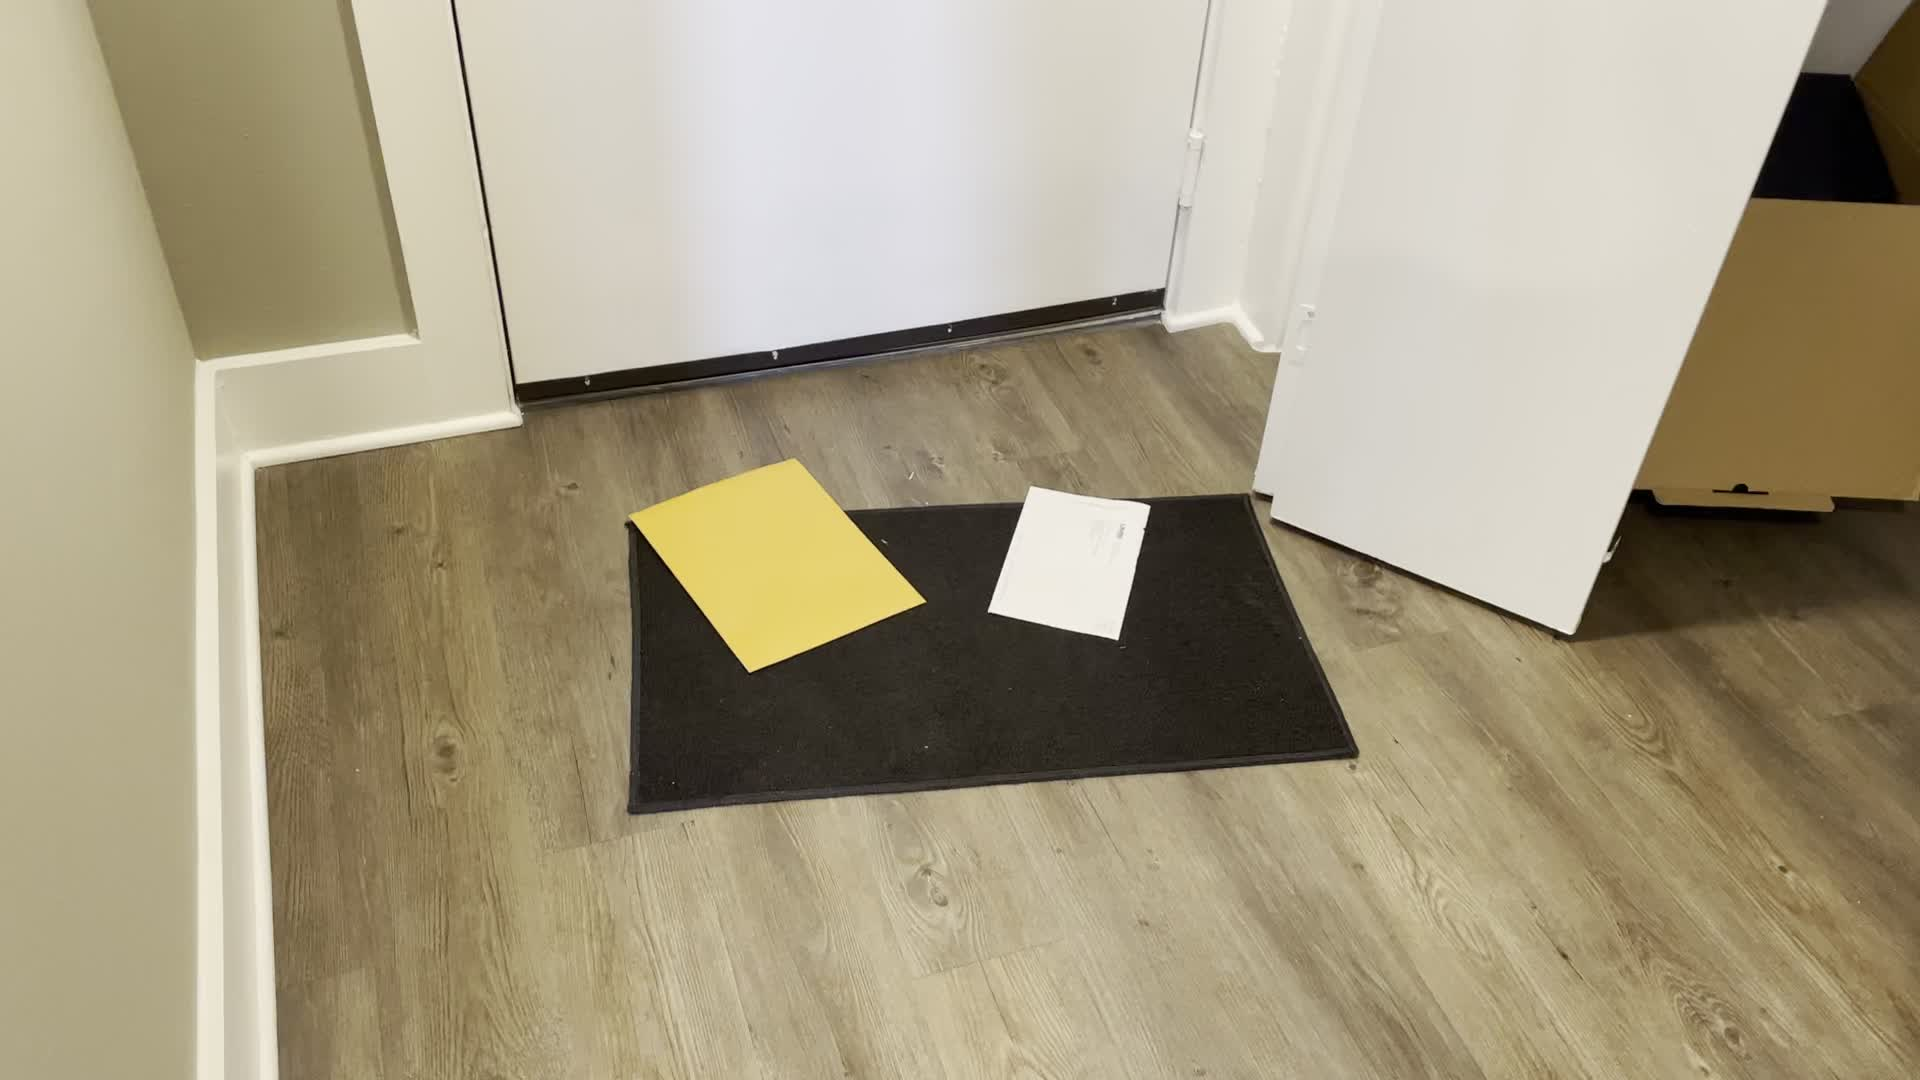envelope: (604, 458, 935, 674), (977, 473, 1155, 654)
